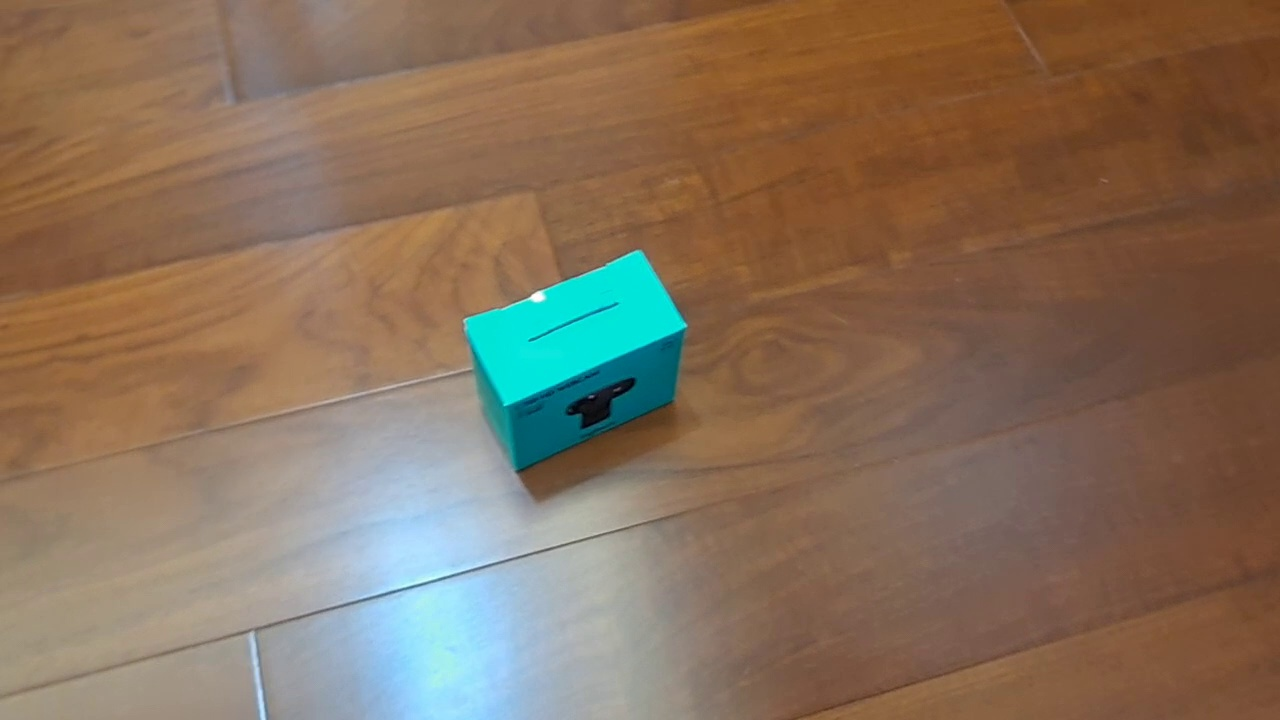webcam: (462, 248, 689, 473)
